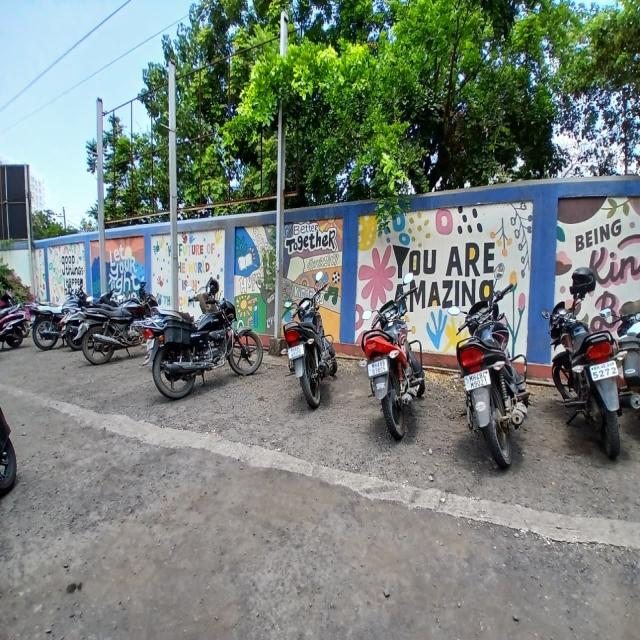Legalparking: (7, 237, 640, 470)
